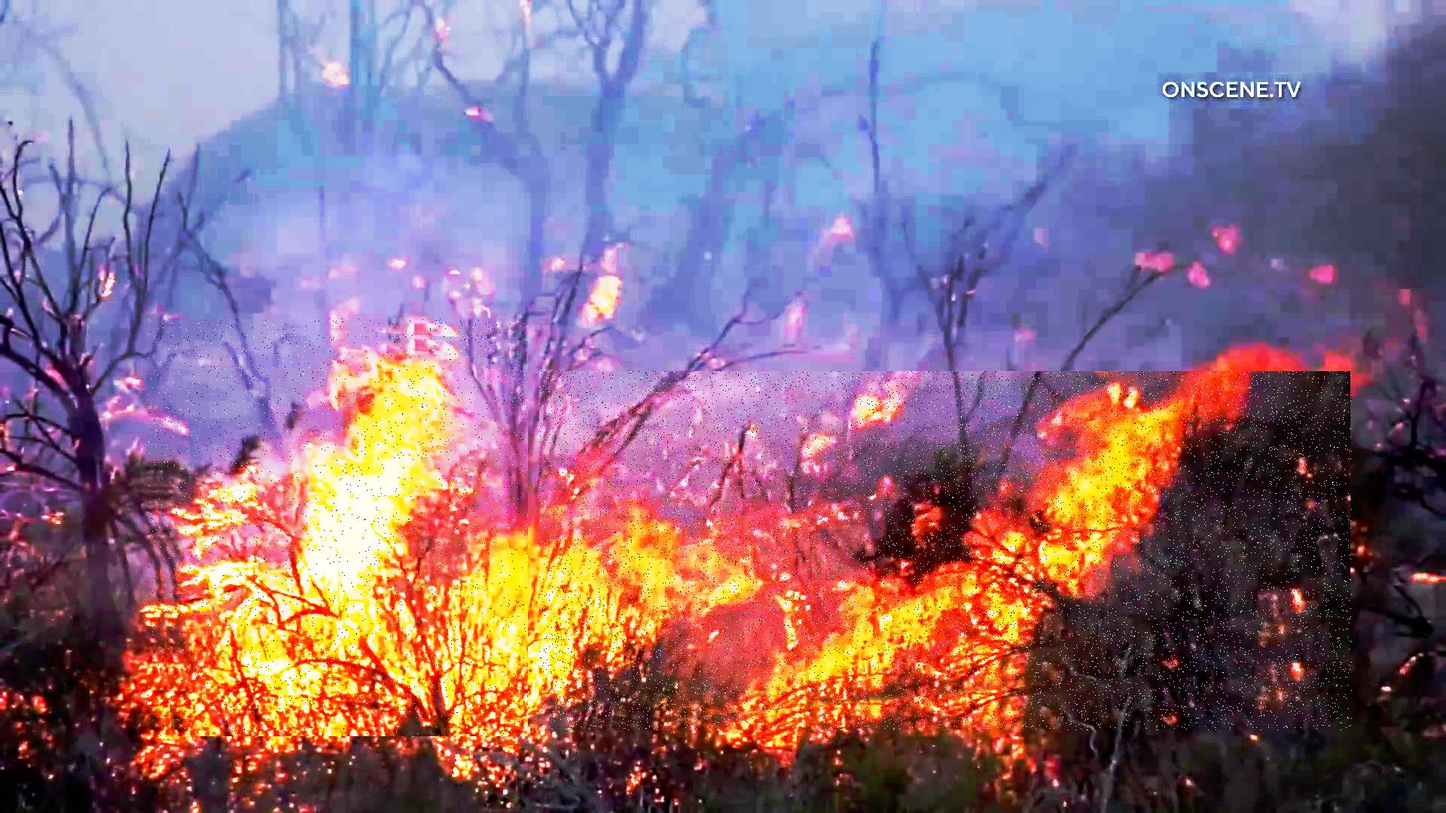fire: (540, 371, 1352, 730), (147, 319, 528, 736)
